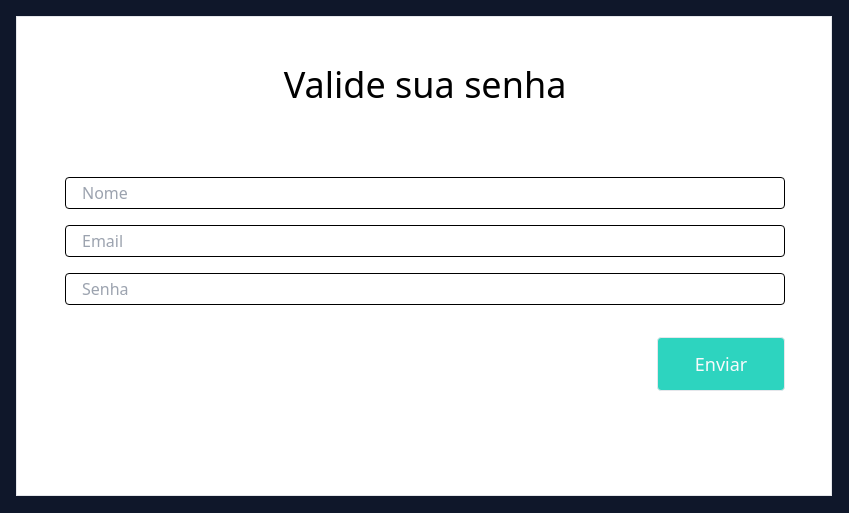
Test: Form Submission › shows error for invalid password
The width and height of the screenshot is (849, 513).
Type "Ezequiel Teste" into the field with placeholder "Nome". click: x=425, y=193
box: [65,177,785,209]
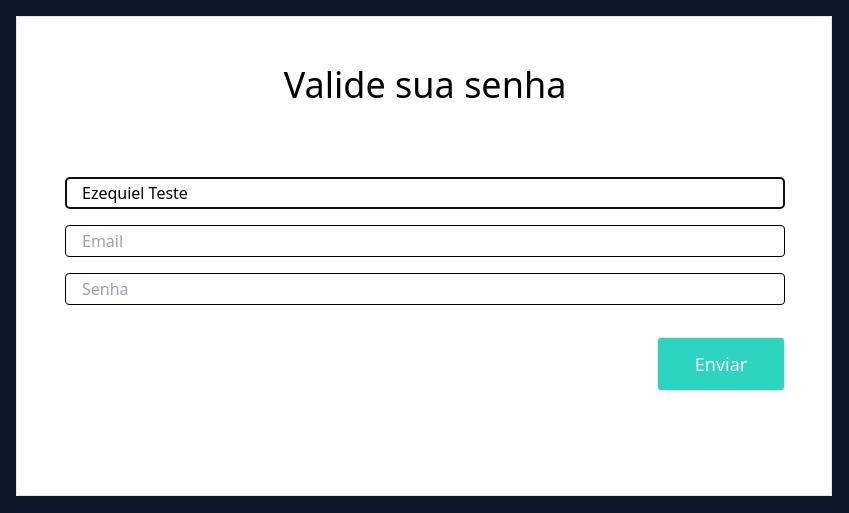
Type "ezequiel@teste.com" into the field with placeholder "Email". click: x=425, y=241
box: [65,225,785,257]
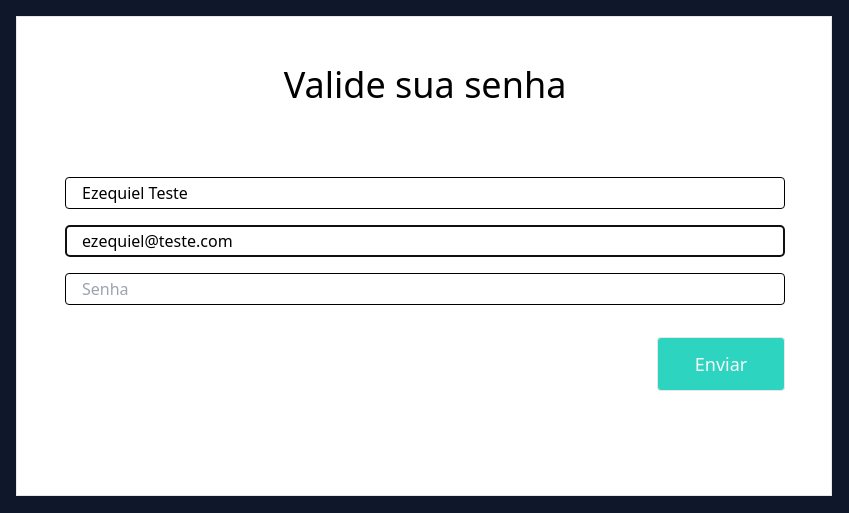
Type "123456" into the password field with placeholder "Senha". click: x=425, y=289
box: [65,273,785,305]
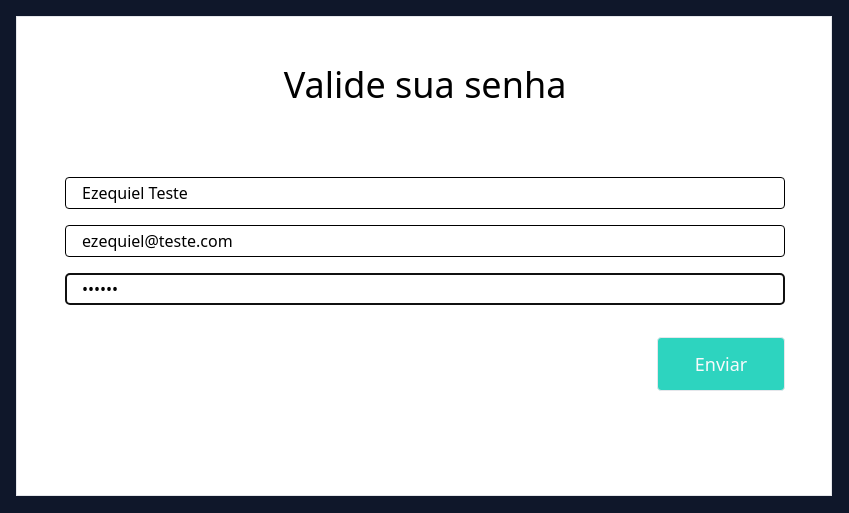
Click the button "Enviar". click: x=721, y=364
box: [657,337,785,391]
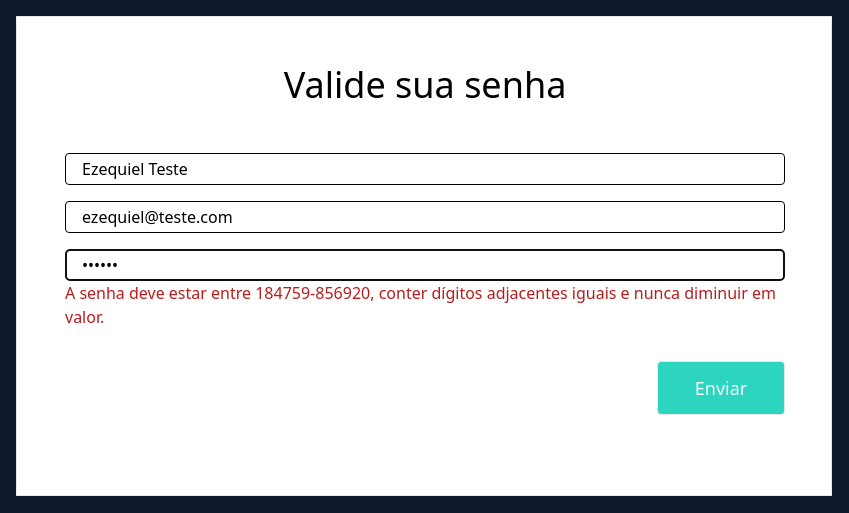
Expected: the text "A senha deve estar entre 184759-856920, conter dígitos adjacentes iguais e nunca diminuir em valor." is shown, [65,282,776,328]
